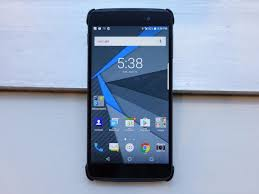bphone: (82, 6, 175, 185)
